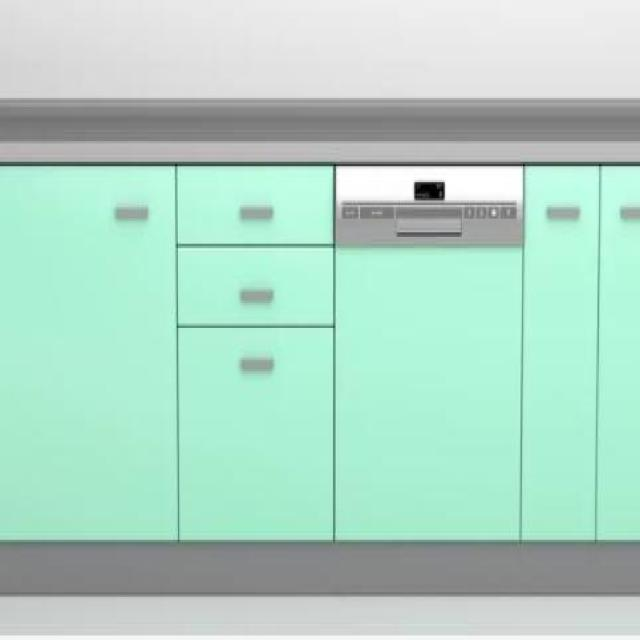dishwasher: (329, 157, 530, 547)
